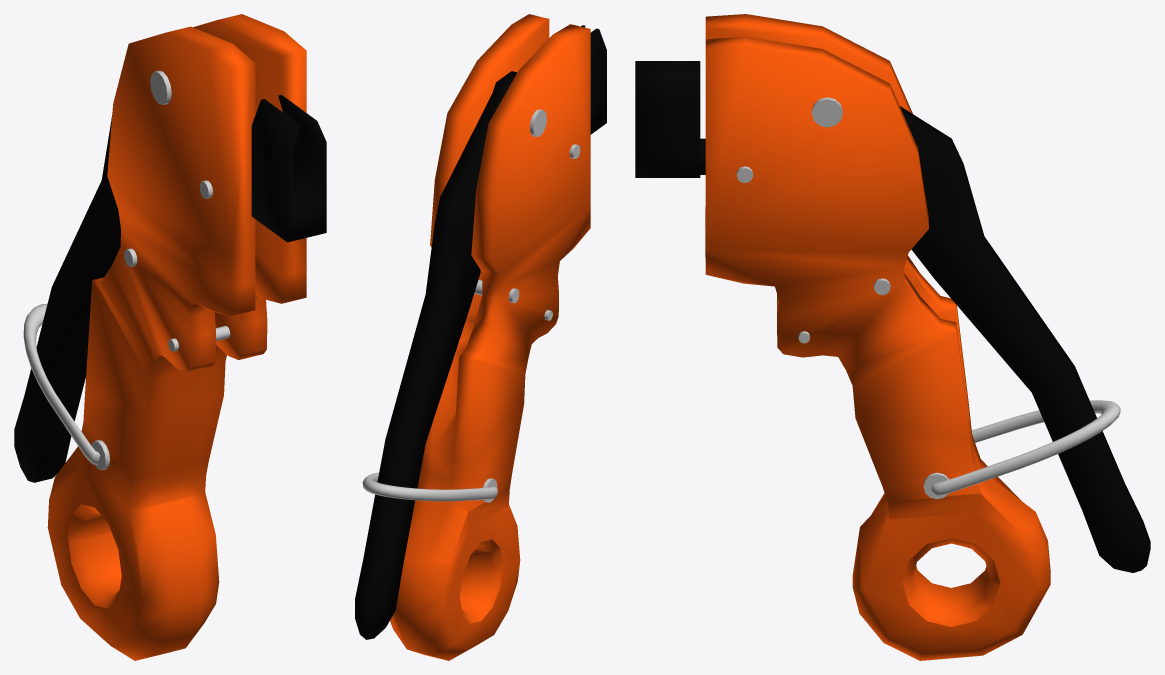
File: Gun.fbx
3 renders of one model, left to right at view 1: azimuth 30°, elevation 25°; view 2: azimuth 150°, elevation 25°; view 3: azimuth 270°, elevation 25°, orthographic. The views are drawn at different scales.
Visible parts, largest first — view 1: Cap 2.1, Cube, Torus, Cylinder.4; view 2: Cap 2.1, Cube, Torus, Cylinder.4; view 3: Cap 2.1, Cube, Torus, Cylinder.4.
Part boxes in pixels (x1,y1,x2,y2): Cap 2.1: (47, 14, 306, 660); Cube: (14, 95, 326, 482); Torus: (23, 303, 99, 465); Cylinder.4: (150, 70, 171, 104); Cap 2.1: (390, 14, 590, 660); Cube: (355, 25, 606, 639); Torus: (362, 472, 497, 501); Cylinder.4: (529, 109, 546, 136); Cap 2.1: (705, 14, 1050, 660); Cube: (635, 61, 1150, 572); Torus: (931, 400, 1120, 495); Cylinder.4: (811, 97, 842, 127).
Bounding box in the file's own units: 78.41 × 501 × 375.
